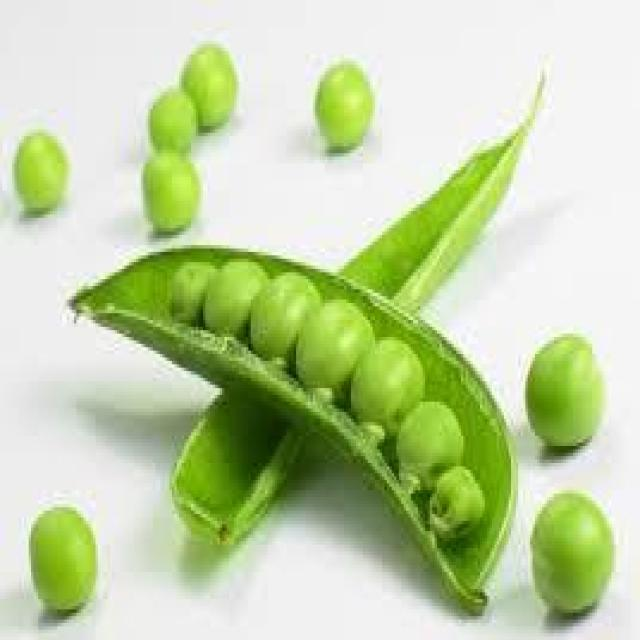organic: (72, 58, 552, 616), (141, 41, 239, 238), (533, 494, 614, 616), (523, 334, 604, 449), (29, 507, 98, 613), (313, 61, 377, 160), (12, 129, 72, 221)
